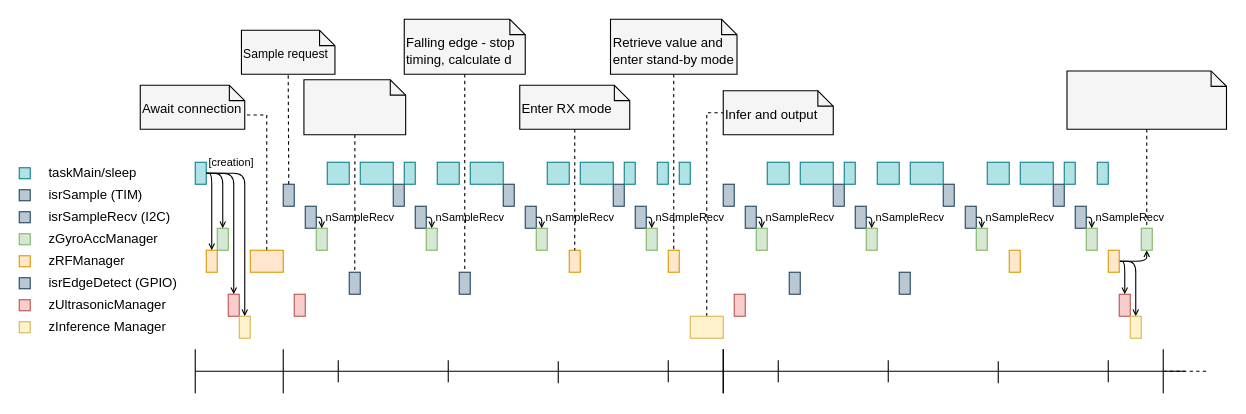
The diagram is 1246 pixels wide and 414 high, and some of its shapes have lost their labels. Each missing label, with the centre of its shape:
Close connections and stop executing: the point at 1146,99
Rising Edge - start timing: the point at 354,107
